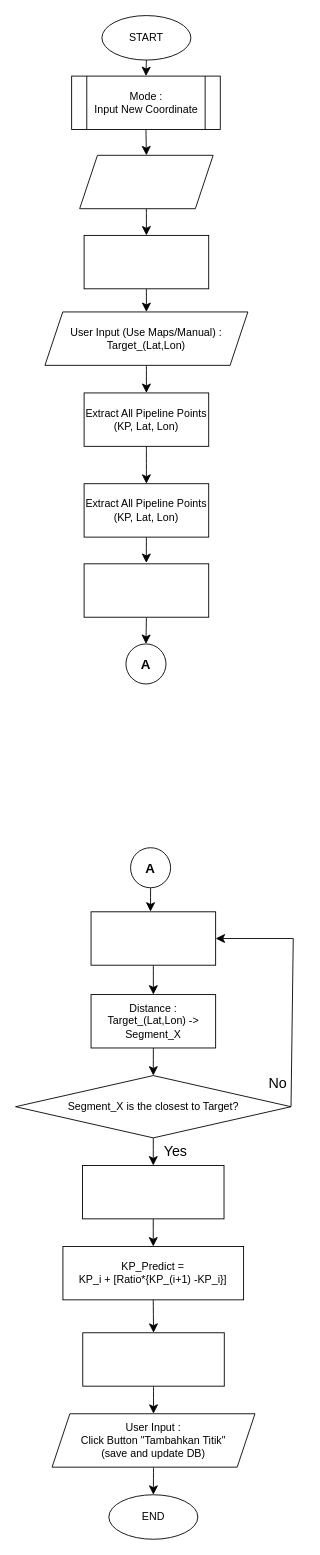
Some shapes in this 320 by 1555 pixel diagram are drawn without their labels. The shapes that lost their labels are listed below. From the top down, each one's centre as x and y in pixels, then its label:
At [146,181]: "User Input : source KMZ File".
At [146,262]: "Load and Parse KMZ (Placemarks)".
At [146,590]: "Sort KP Pipeline (Ascending)".
At [153,938]: "For each Pipeline Segment_X : KP_i -> KP_(i+1)".
At [153,1192]: "Save Segment_X value and Position Ratio".
At [153,1359]: "Show return value : KP_Predict".
